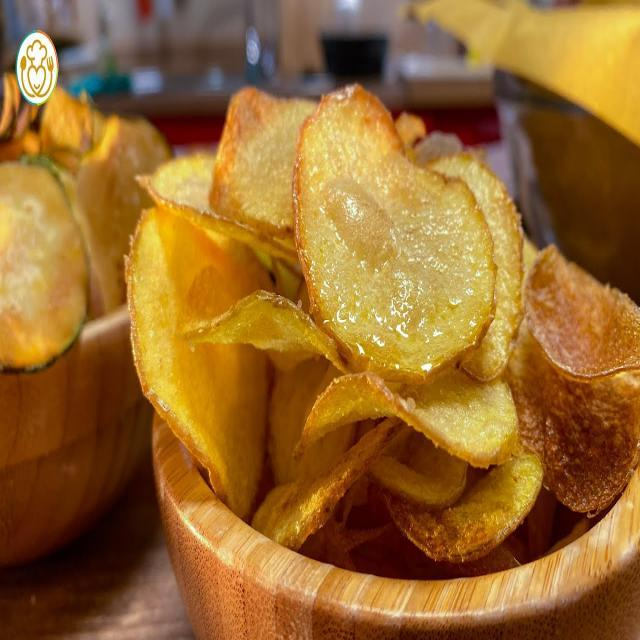Chips packaged: (120, 78, 622, 548)
